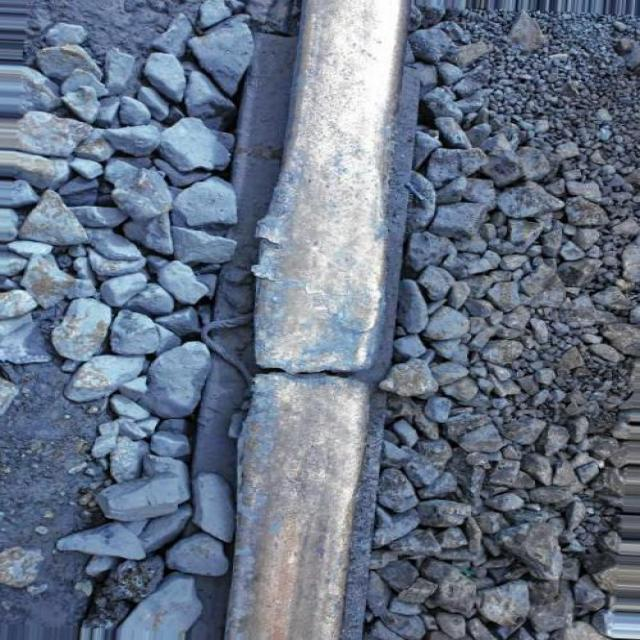crack: (231, 318, 397, 411)
